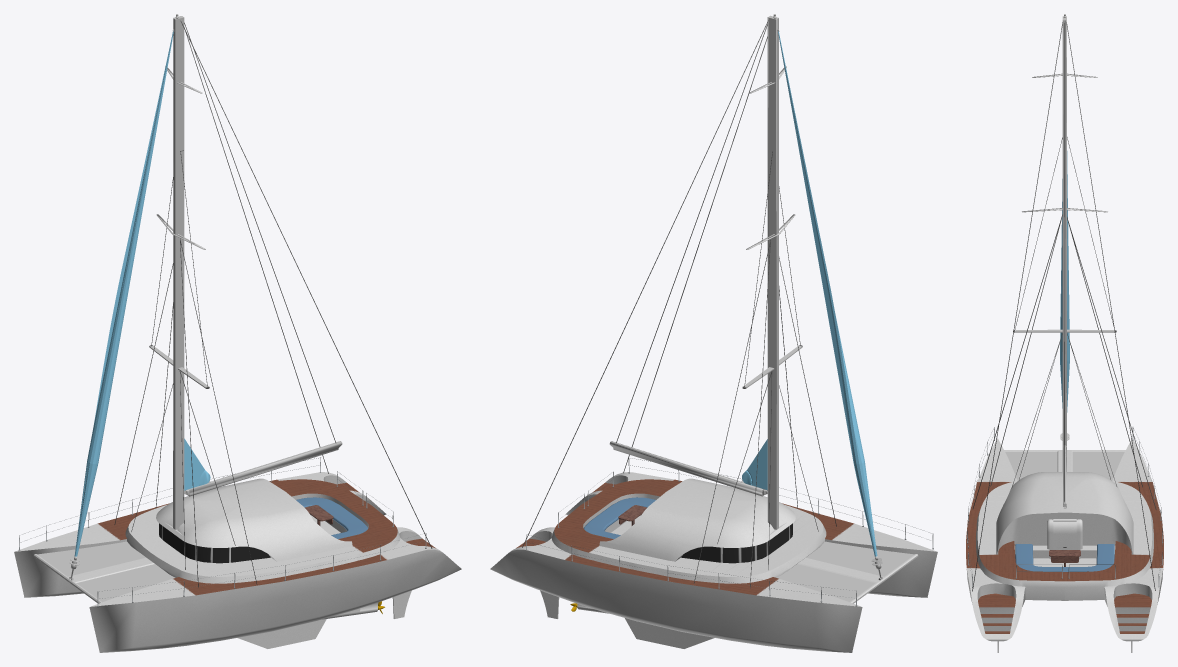
File: Katamaran.fbx
The picture shows the model from 3 angles, left to right: view 1: azimuth 30°, elevation 25°; view 2: azimuth 150°, elevation 25°; view 3: azimuth 270°, elevation 25°; orthographic projection. The views are drawn at different scales.
Parts seen in each view (by area): view 1: Boat, Ditail, Grid; view 2: Boat, Ditail, Grid; view 3: Boat, Ditail, Grid.
Part boxes in pixels (bbox=[...]): Boat: bbox=[14, 472, 461, 652]; Ditail: bbox=[18, 14, 432, 607]; Grid: bbox=[37, 541, 175, 602]; Boat: bbox=[490, 472, 937, 652]; Ditail: bbox=[522, 14, 933, 606]; Grid: bbox=[776, 541, 914, 602]; Boat: bbox=[966, 438, 1163, 652]; Ditail: bbox=[967, 14, 1163, 591]; Grid: bbox=[1005, 451, 1124, 480].
Bounding box in the file's own units: 744 × 1207 × 390.
